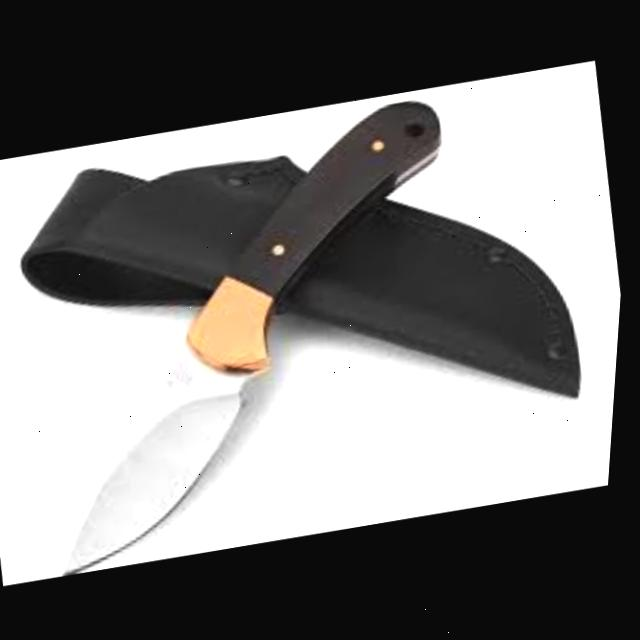knife: (0, 90, 514, 577)
